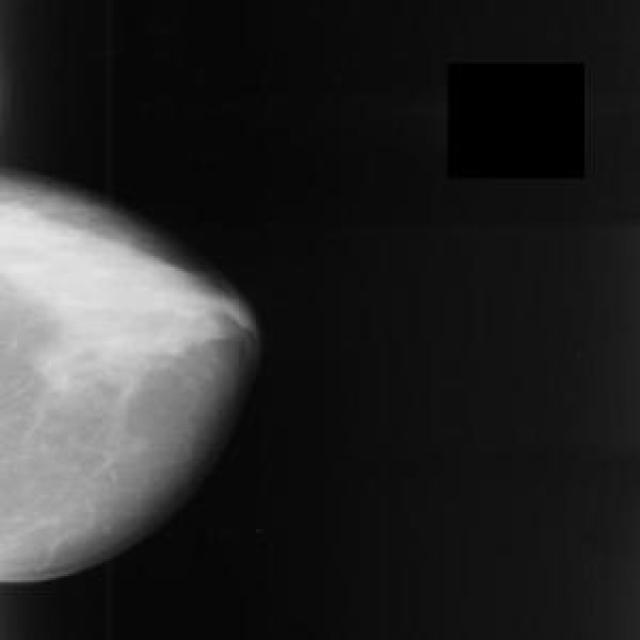tumor: (46, 230, 232, 388)
